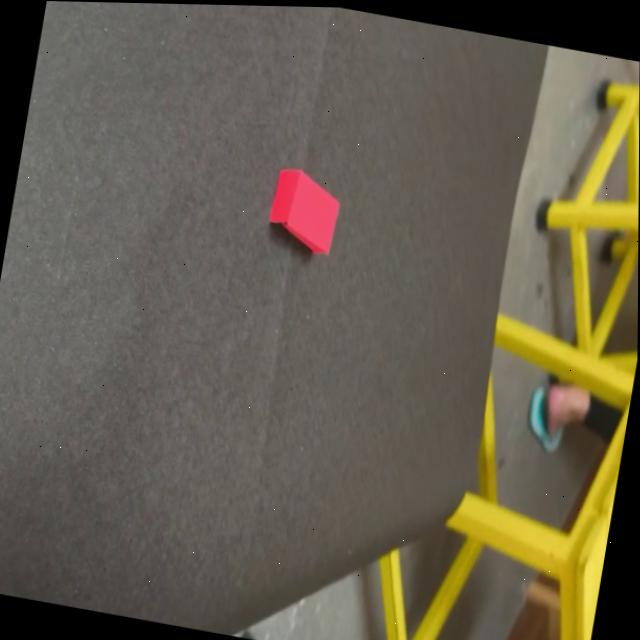red block: (265, 163, 346, 259)
